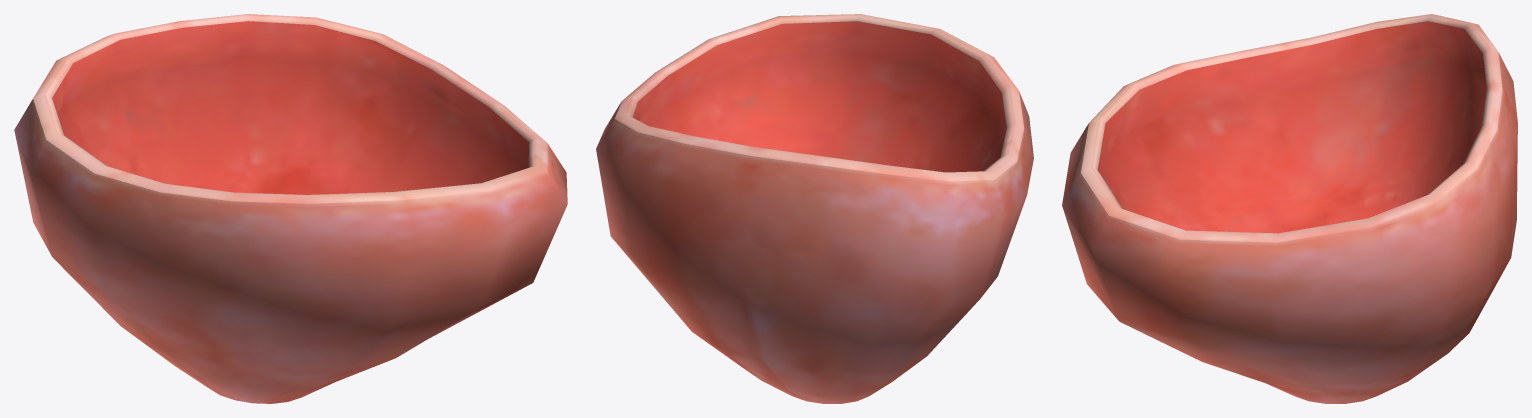
File: Elf_Cup.obj
The picture shows the model from 3 angles, left to right: view 1: azimuth 30°, elevation 25°; view 2: azimuth 150°, elevation 25°; view 3: azimuth 270°, elevation 25°; orthographic projection. The views are drawn at different scales.
Visible parts, largest first — view 1: ElfCup; view 2: ElfCup; view 3: ElfCup.
Boxes of the visible parts, x1=… form: ElfCup: x1=14, y1=14, x2=567, y2=403; ElfCup: x1=596, y1=14, x2=1033, y2=403; ElfCup: x1=1062, y1=14, x2=1517, y2=403.
Size of the model in its own units: 0.1649 by 0.1168 by 0.1533.
